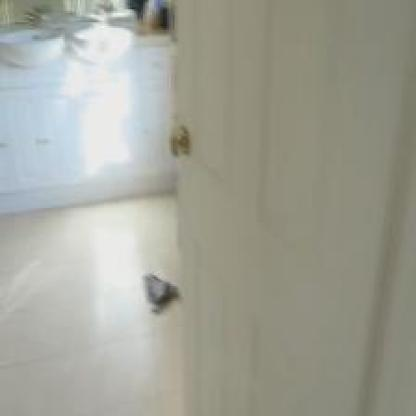other: (46, 16, 144, 167)
